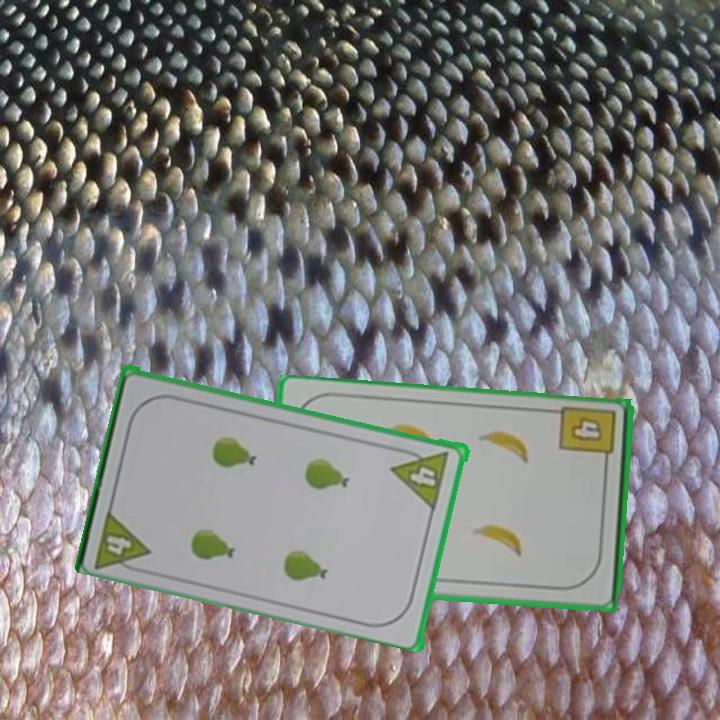4b: (556, 403, 620, 471)
4p: (91, 504, 155, 577), (389, 443, 453, 511)
